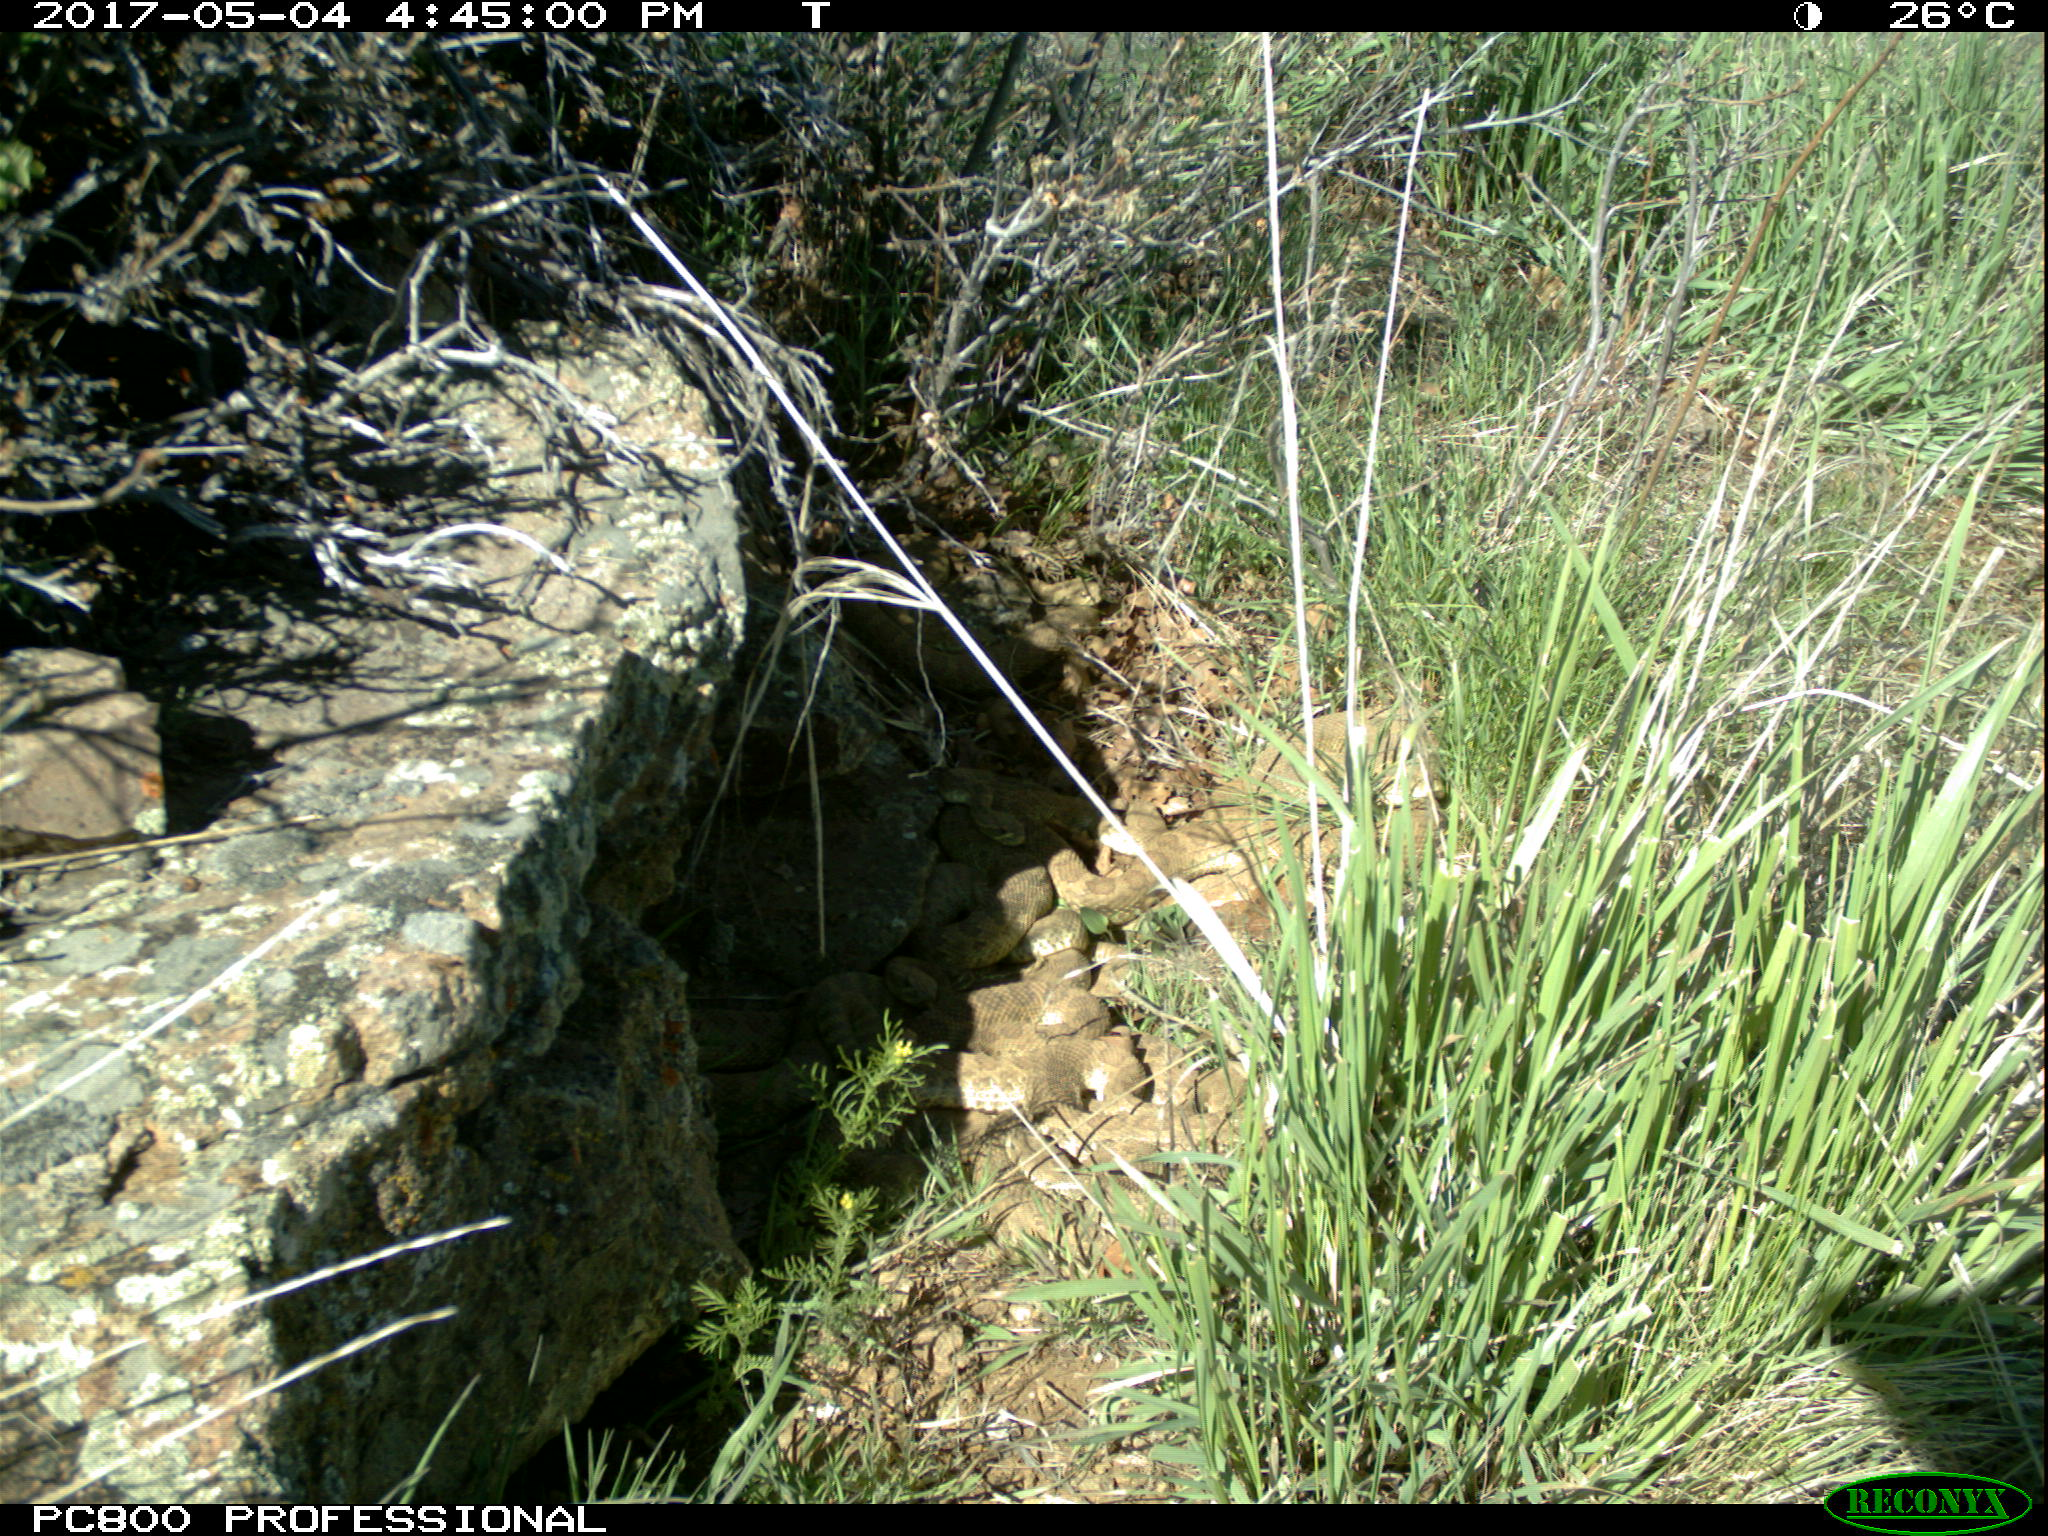snake: (937, 1037, 1284, 1258), (1108, 708, 1448, 918), (924, 865, 1164, 1037), (887, 618, 1130, 684)
